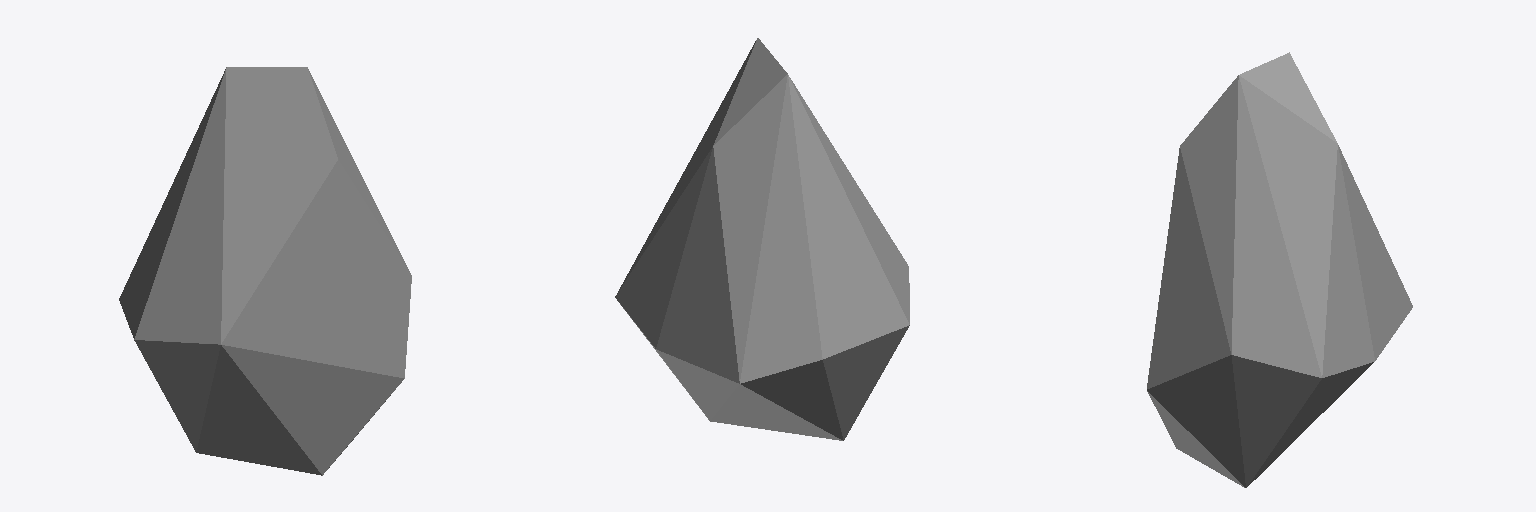
File: Low_Poly_Rock_Small_003.obj
3 views of the same model, side by side, from view 1: azimuth 30°, elevation 25°; view 2: azimuth 150°, elevation 25°; view 3: azimuth 270°, elevation 25° (orthographic).
Parts seen in each view (by area): view 1: Low_Poly_Rock_Small_003_Icosphere.009; view 2: Low_Poly_Rock_Small_003_Icosphere.009; view 3: Low_Poly_Rock_Small_003_Icosphere.009.
Part boxes in pixels (x1,y1,x2,y2): Low_Poly_Rock_Small_003_Icosphere.009: (119, 67, 411, 475); Low_Poly_Rock_Small_003_Icosphere.009: (615, 38, 909, 440); Low_Poly_Rock_Small_003_Icosphere.009: (1147, 52, 1412, 487).
Size of the model in its own units: 0.6888 by 0.9786 by 0.6035.